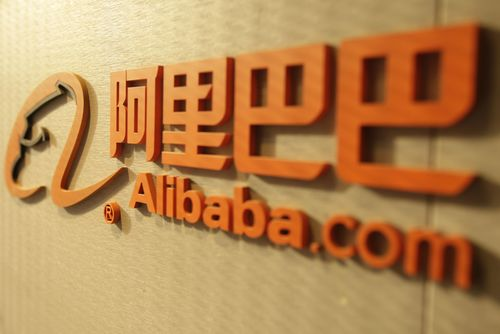alibaba: (1, 20, 487, 297)
